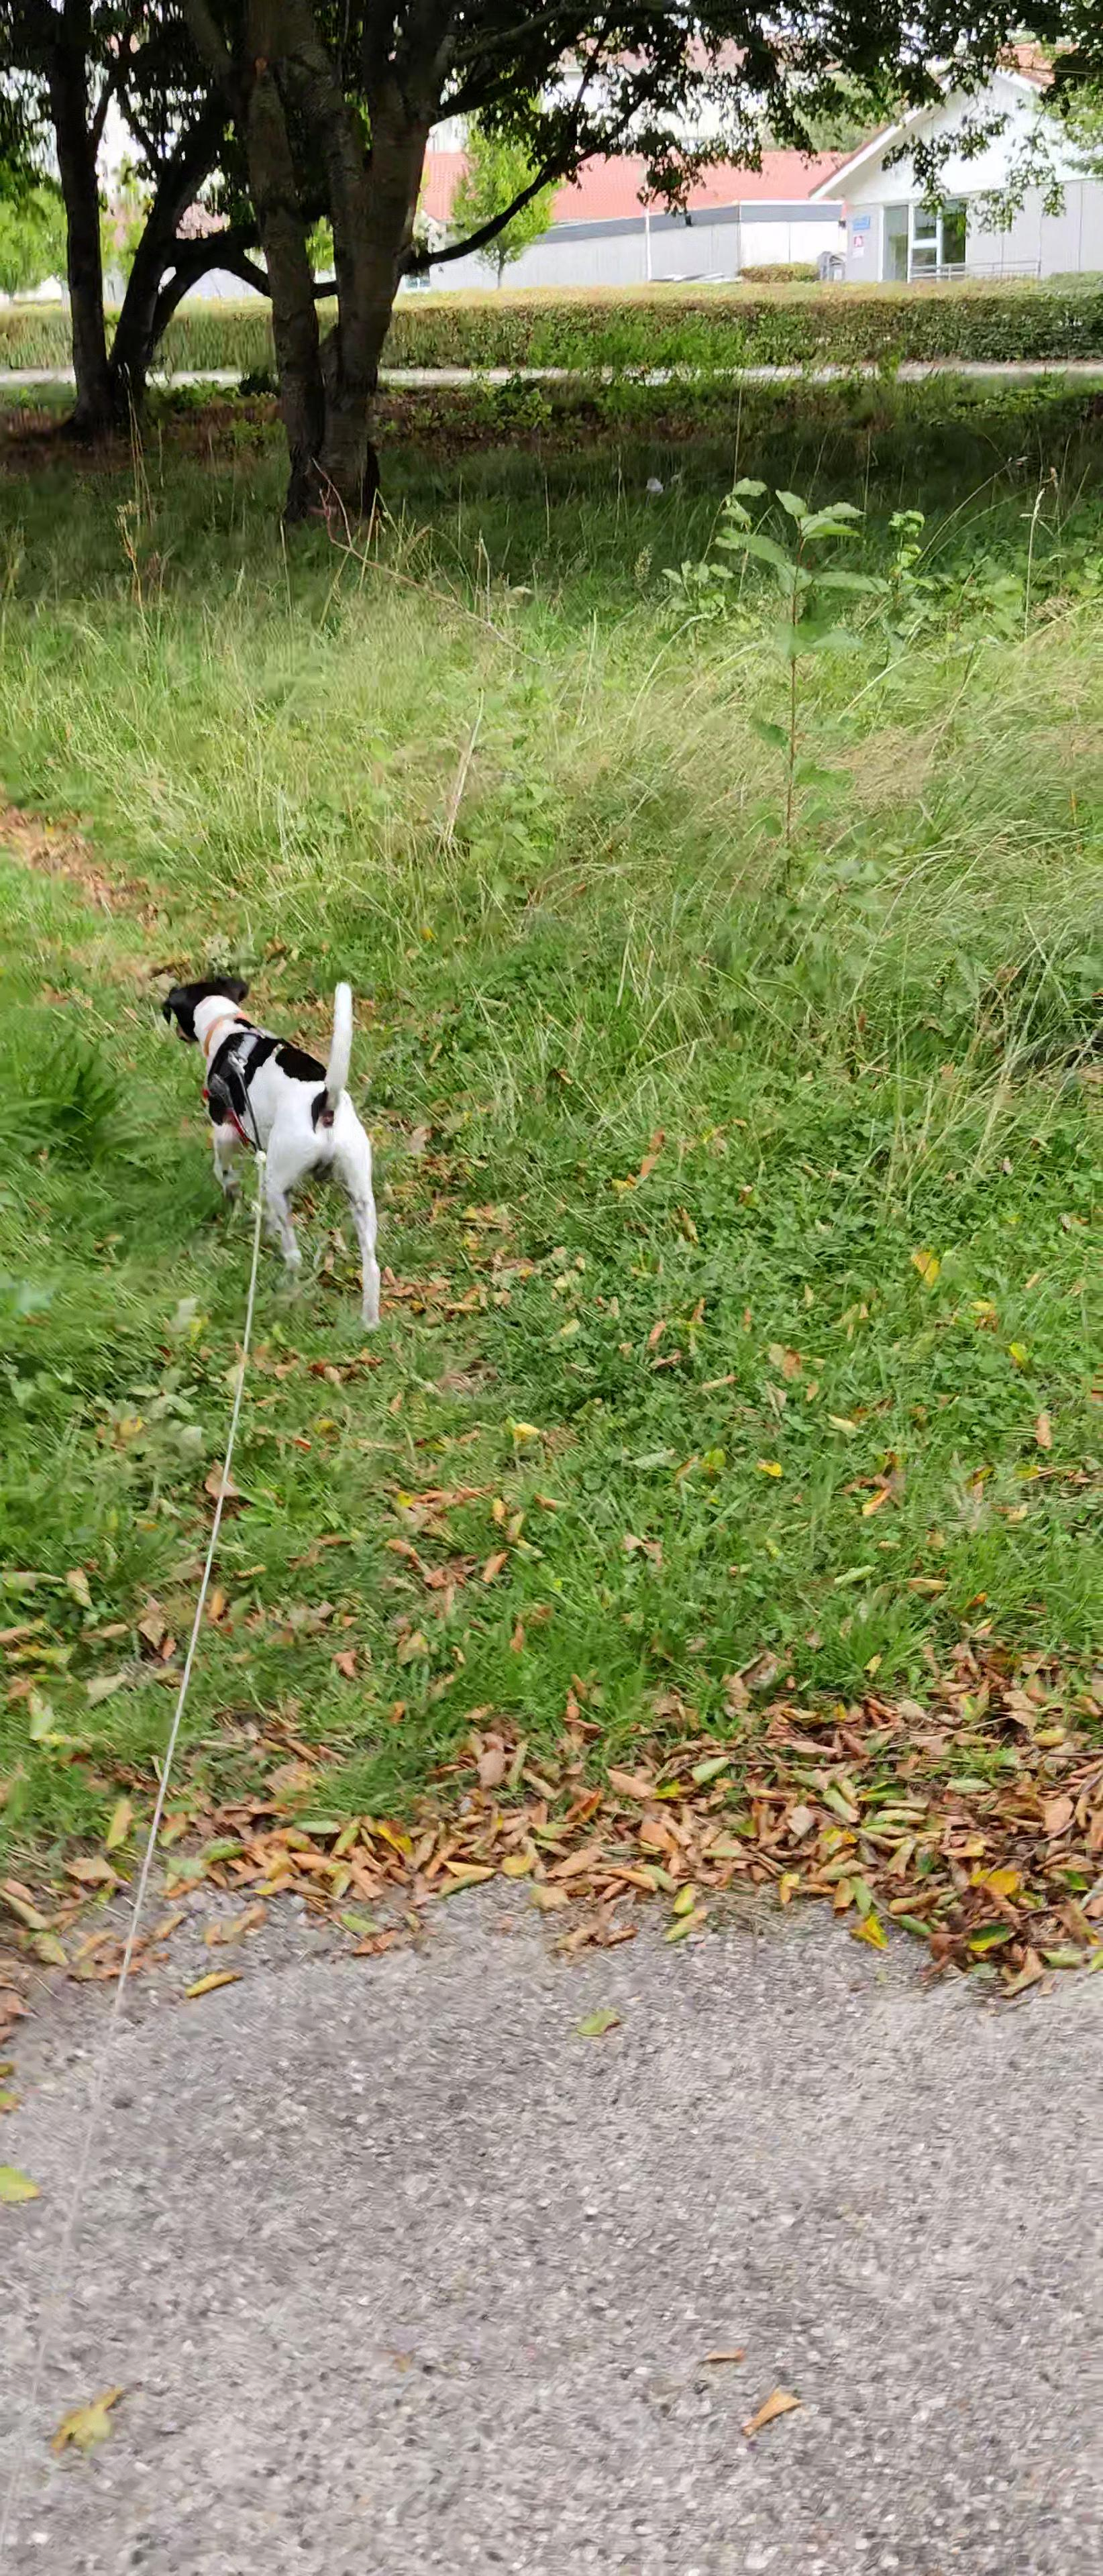Dog: (156, 959, 390, 1347)
